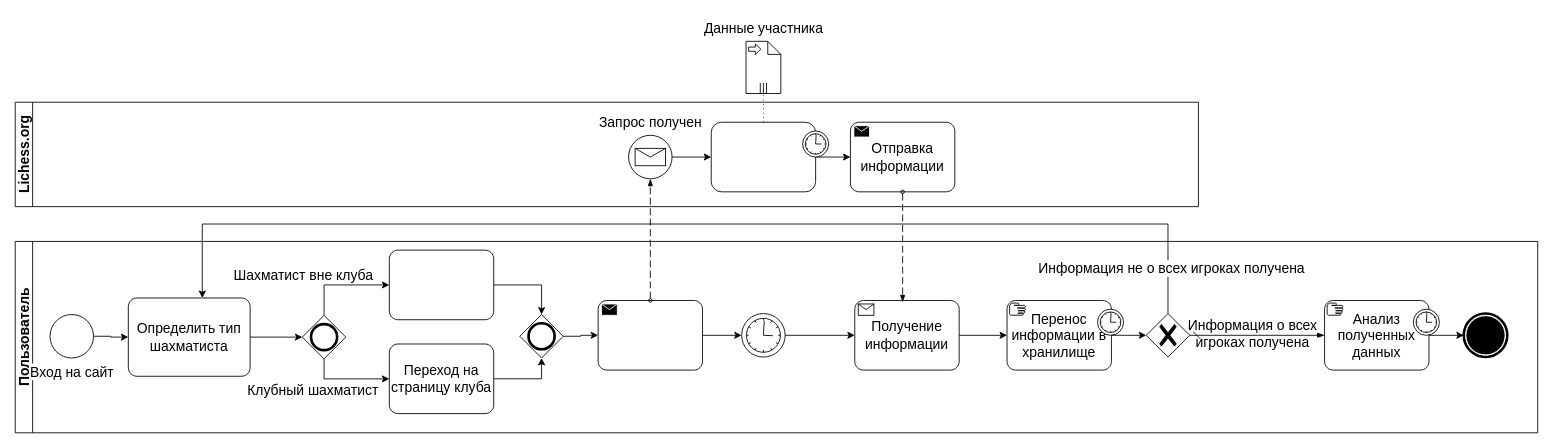
The diagram is 1562 pixels wide and 448 high, and some of its shapes have lost their labels. Each missing label, with the centre of its shape:
Анализ активности игроков завершен: (1485,335)
Выбор участника для получения активности: (650,335)
Ожидание информации: (763,335)
Переход в каталог поиска шахматистов: (441,284)
Получение информации об активности шахматиста: (763,156)
